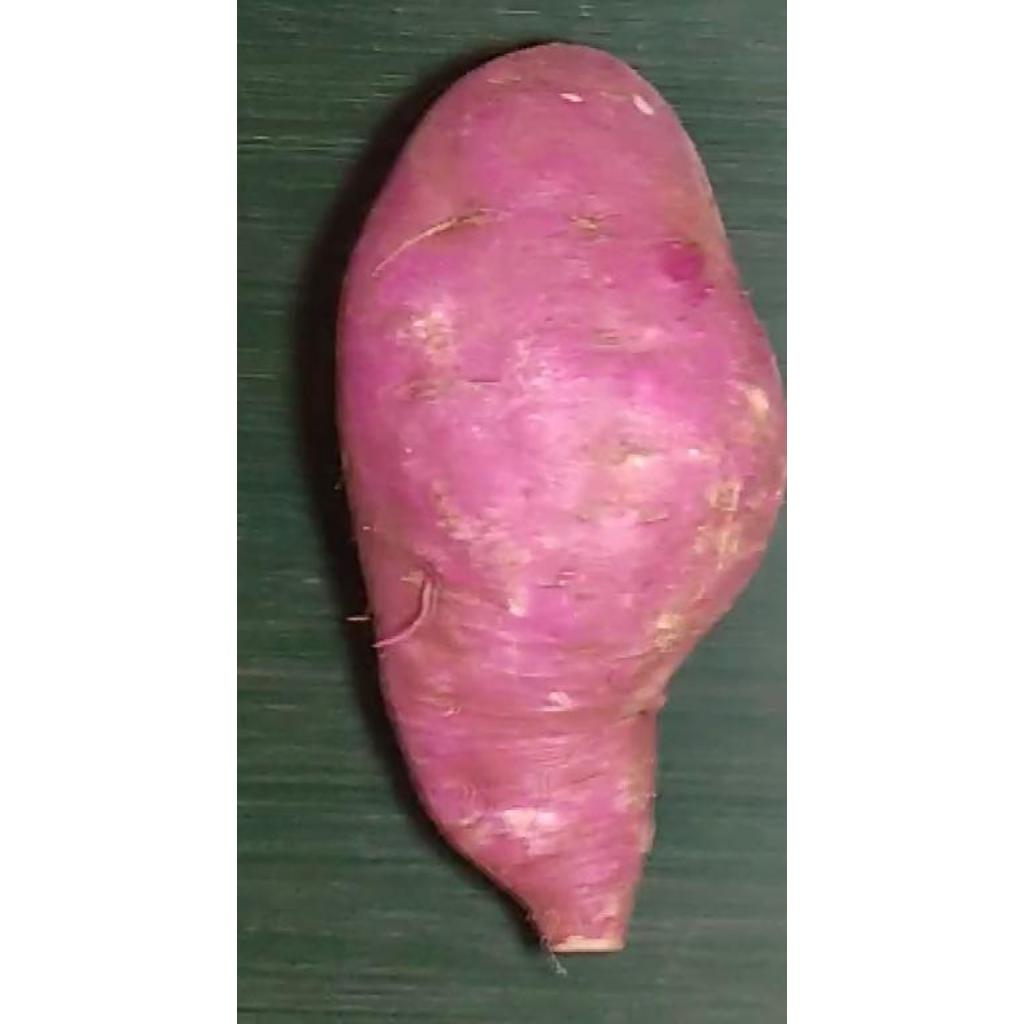Sweet Potato: (333, 41, 788, 958)
